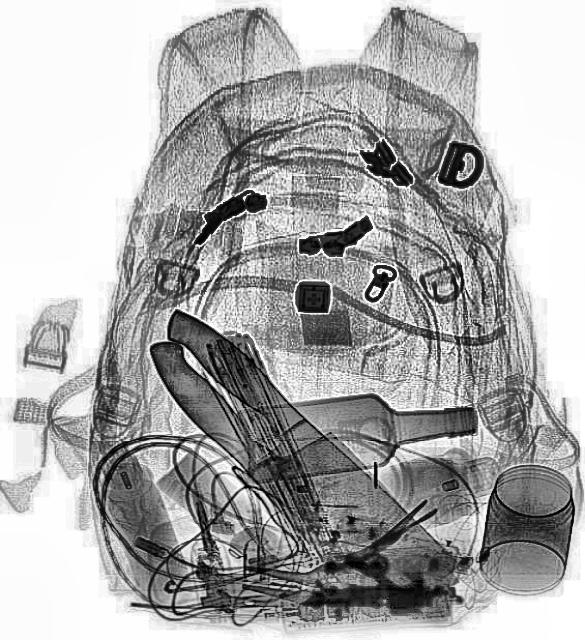Knife: (124, 290, 460, 630), (129, 296, 465, 624)
